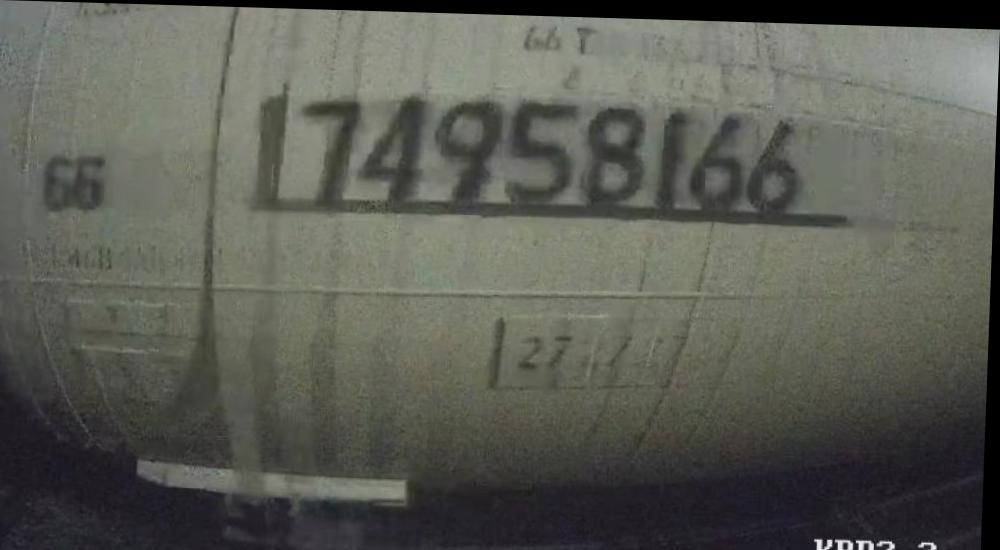Wagon-number: (294, 86, 809, 216)
